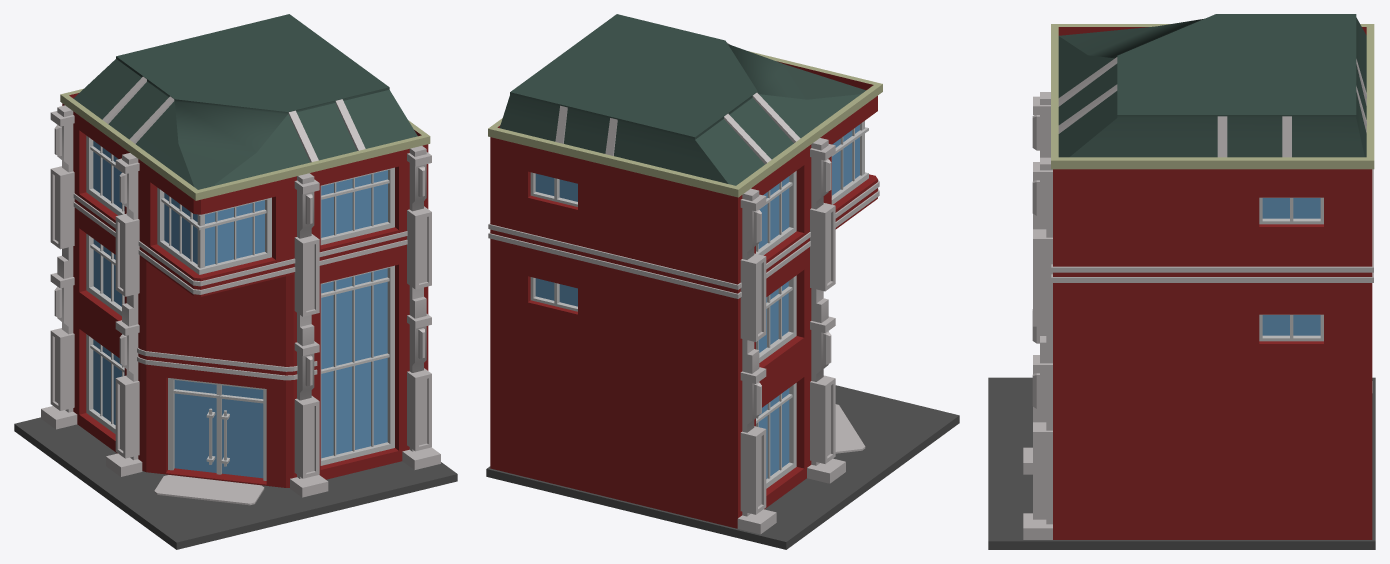
File: Building_C.fbx
3 views of the same model, side by side, from view 1: azimuth 30°, elevation 25°; view 2: azimuth 150°, elevation 25°; view 3: azimuth 270°, elevation 25° (orthographic). The views are drawn at different scales.
Visible parts, largest first — view 1: Building_C; view 2: Building_C; view 3: Building_C.
Part boxes in pixels (<box>): Building_C: <box>14,14,457,549</box>; Building_C: <box>486,14,959,549</box>; Building_C: <box>988,14,1375,549</box>.
Bounding box in the file's own units: 165 × 201 × 165.
